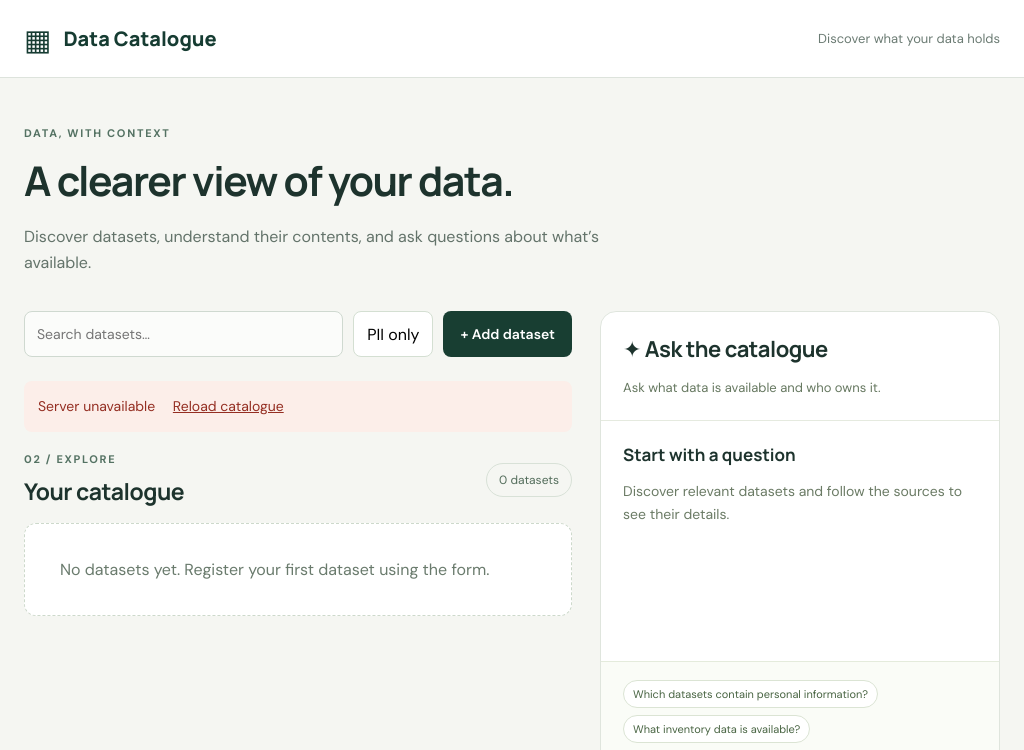
Catalogue user journeys › shows a recoverable initial loading error
Expected: the text "Server unavailable" is shown, [38, 397, 155, 415]
Click the button "Reload catalogue".
click(228, 407)  # box [167, 395, 290, 418]
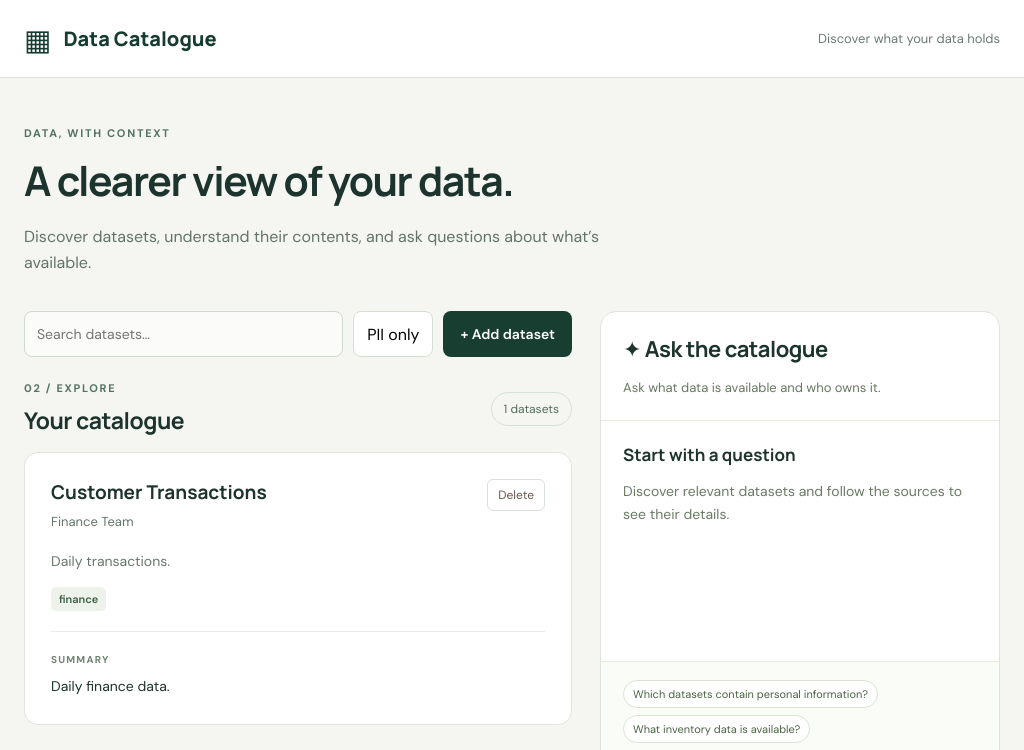
Expected: the heading "Customer Transactions" is shown, [51, 479, 267, 505]
